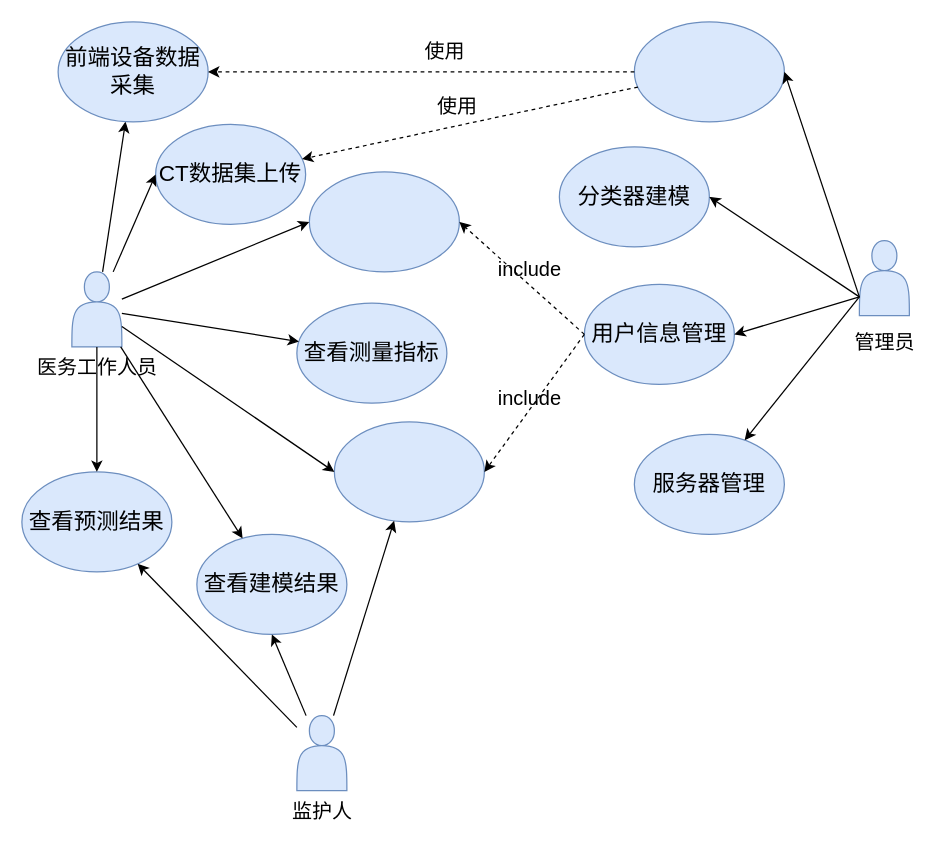
This 948x851 diagram has some shape labels left out. The centre of each missing label's shape, as x and y in pixels:
"患者信息注册" belongs at point 383,221.
"数据预处理" belongs at point 708,71.
"登录" belongs at point 408,471.
